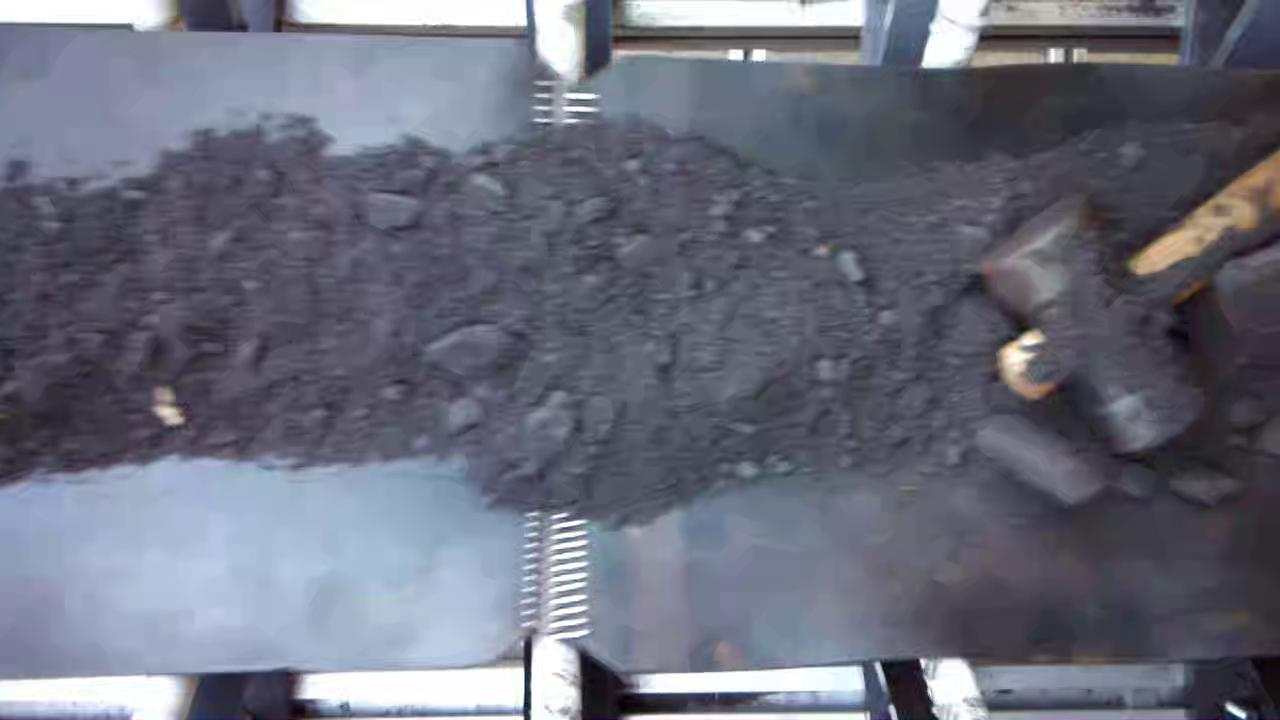conveyor: (7, 67, 1274, 645)
